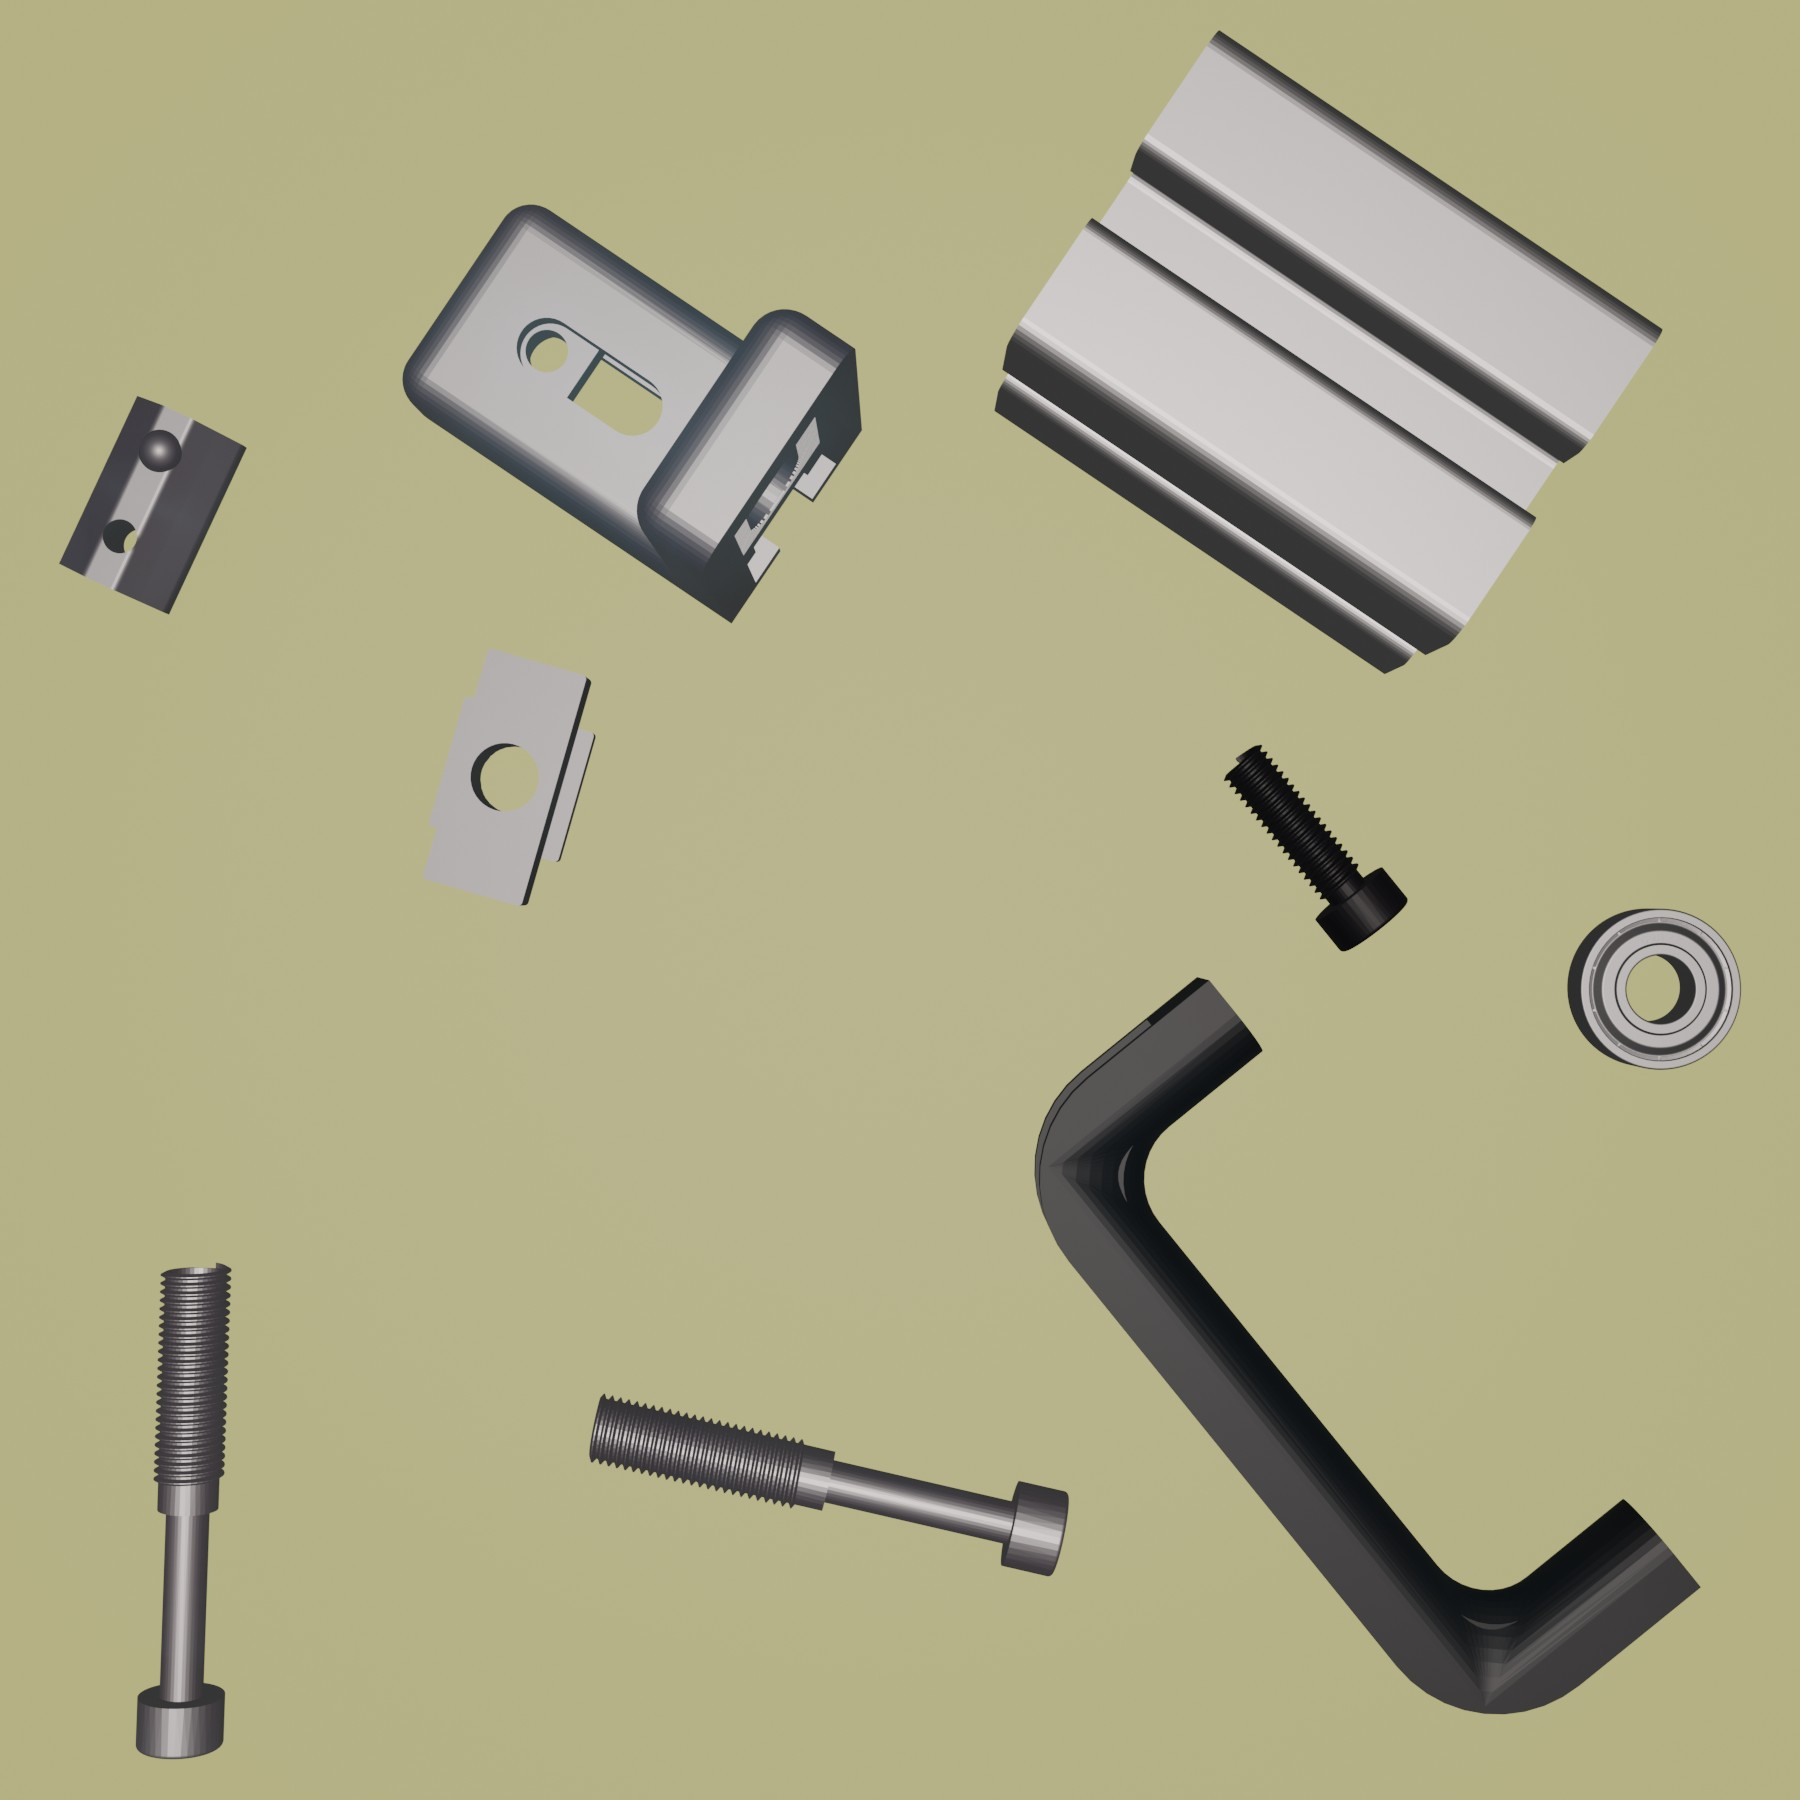Aluminium Extension: (992, 30, 1665, 676)
Ball Bearing: (1563, 903, 1744, 1073)
Multiwinkel: (401, 199, 864, 625)
Pull Handle: (1034, 976, 1703, 1714)
Shoulder Socket Head Cap Screw: (582, 1391, 1071, 1577), (130, 1259, 232, 1764)
Socket Head Cap Screw: (1223, 743, 1409, 951)
T Nut Square: (420, 649, 602, 907)
T Spring Nut: (58, 391, 251, 618)
